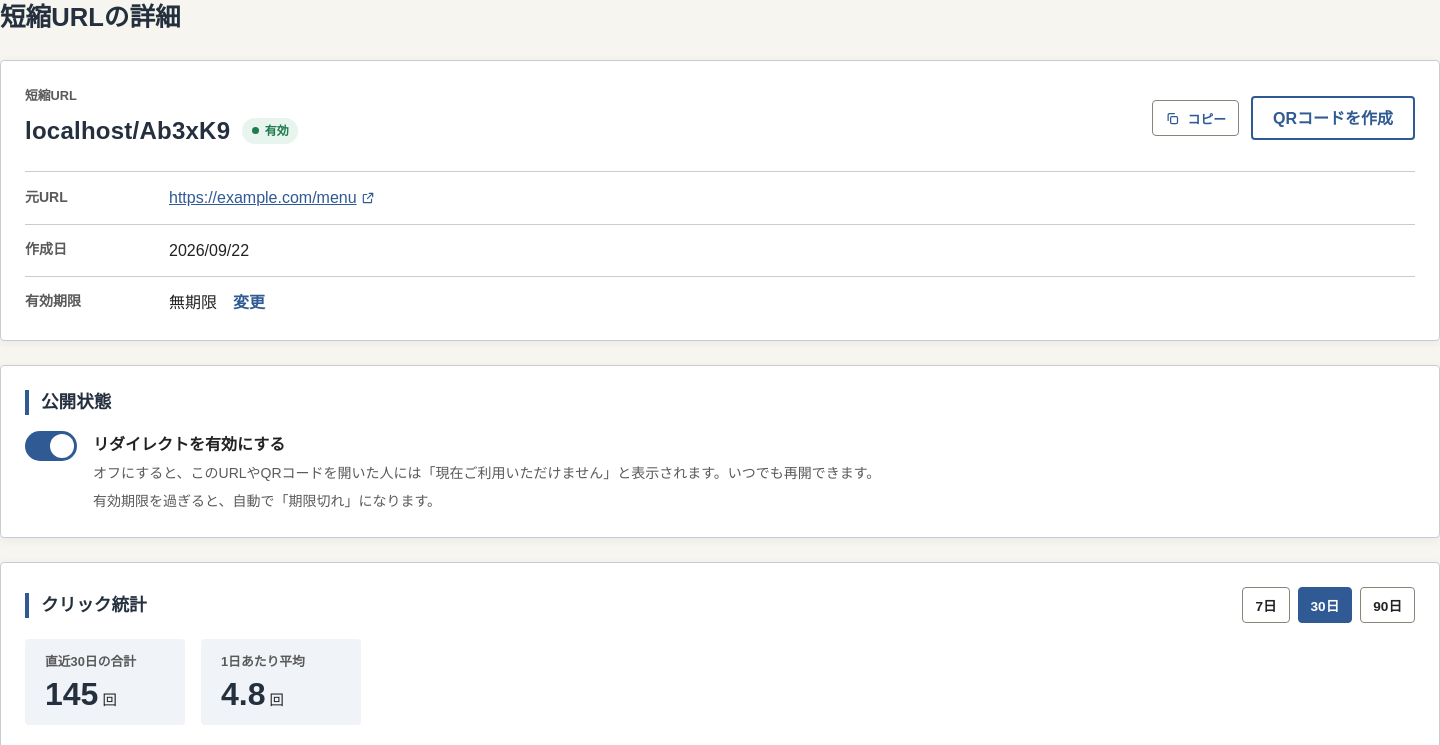
it: LinkDetailPage › 有効期限の変更: 日付を指定すると、その日の23:59(日本時間)で保存する
Click the button "変更" at (249, 302), box [225, 289, 273, 316]
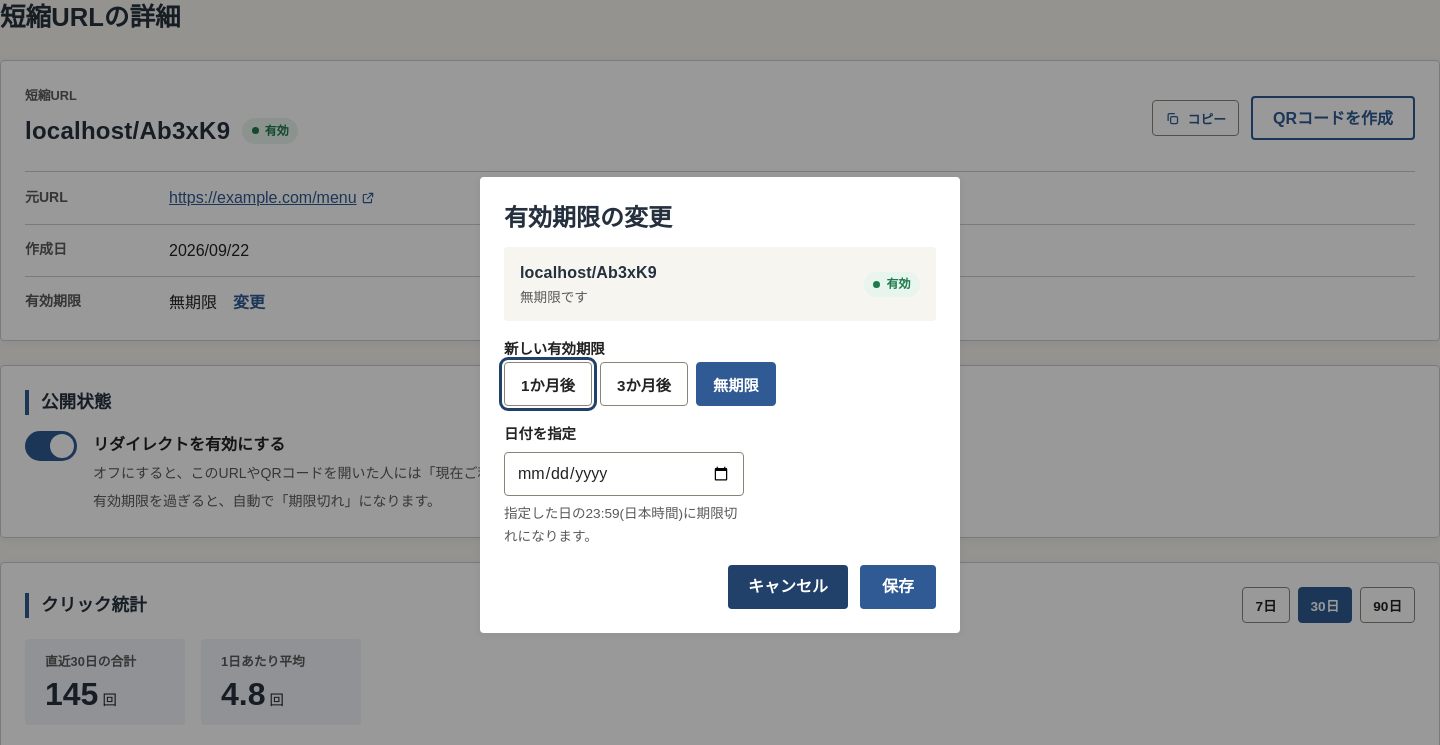
Type "2099-12-31" into the date field labelled "日付を指定" at (624, 474), box [504, 452, 744, 496]
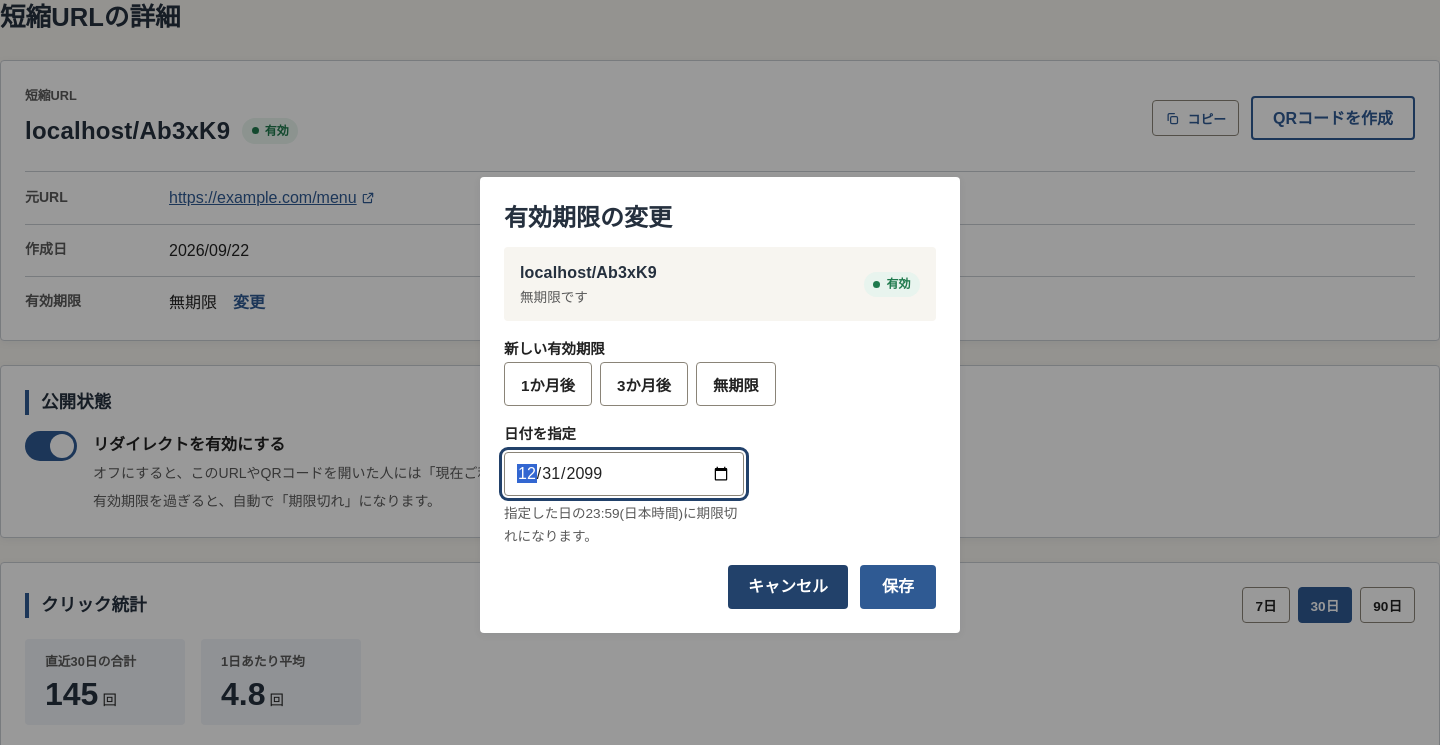
Click the button "保存" at (898, 586), box [860, 564, 936, 608]
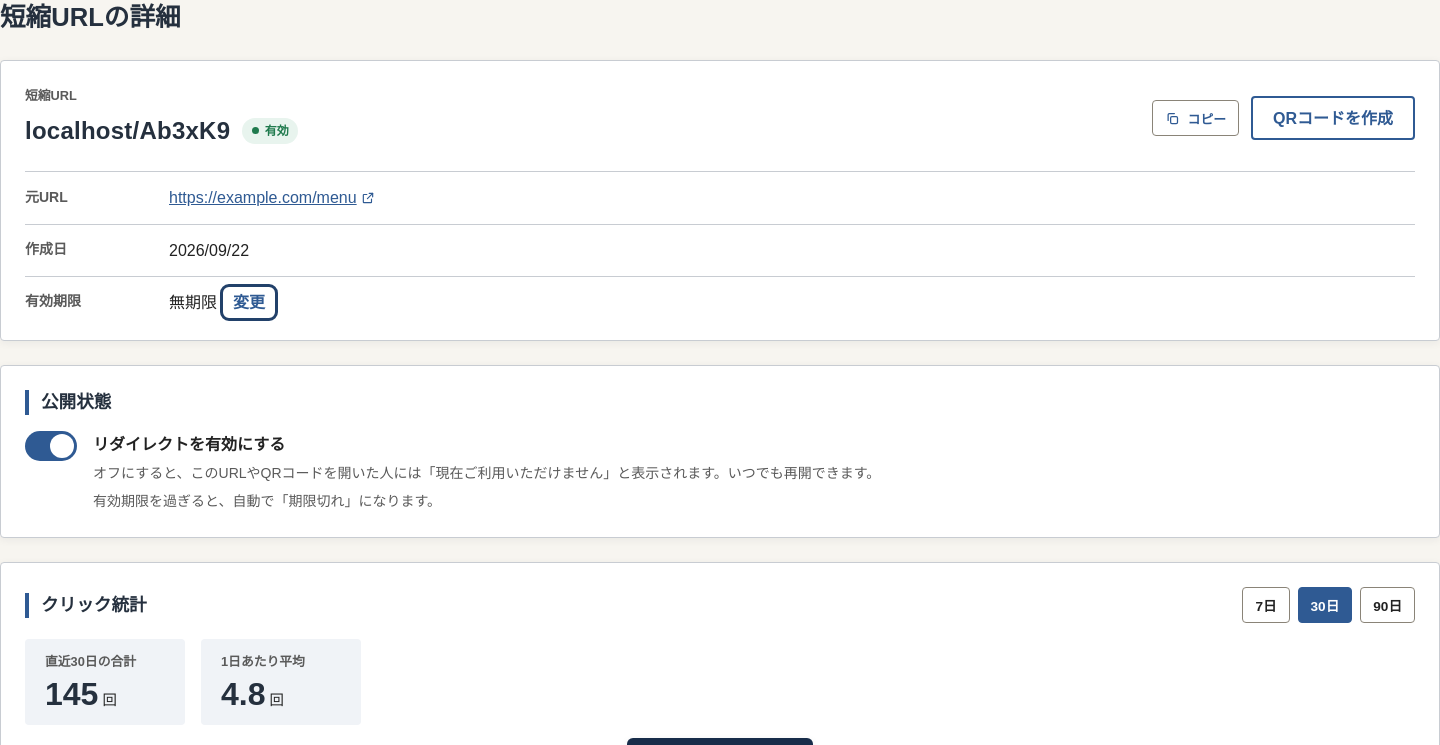
Expected: the dialog is gone
